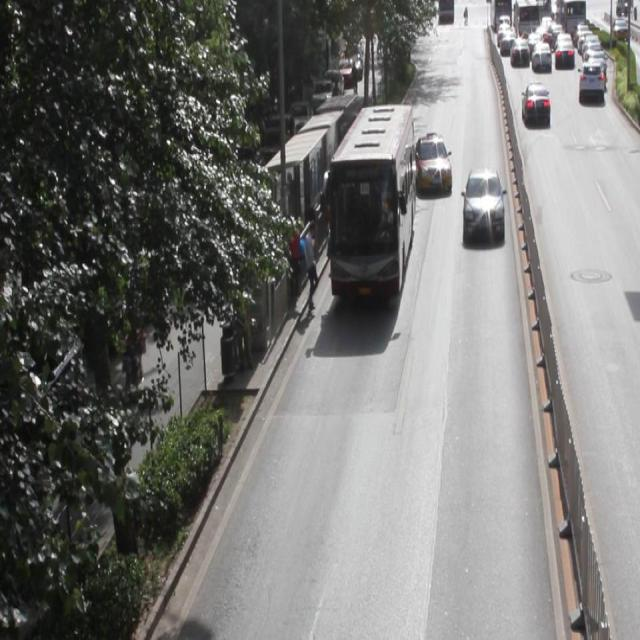car: (463, 168, 502, 239), (413, 132, 451, 194)
van: (328, 103, 413, 298)
